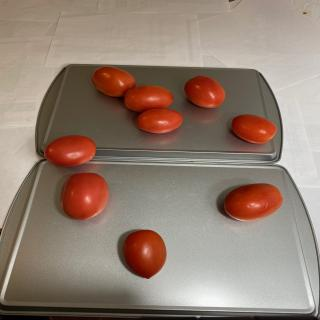Tomato: (60, 172, 109, 220), (223, 183, 283, 222), (122, 229, 167, 279), (44, 135, 96, 167), (91, 66, 136, 97), (184, 75, 226, 108), (231, 114, 277, 144), (124, 85, 174, 112), (137, 108, 184, 134)
